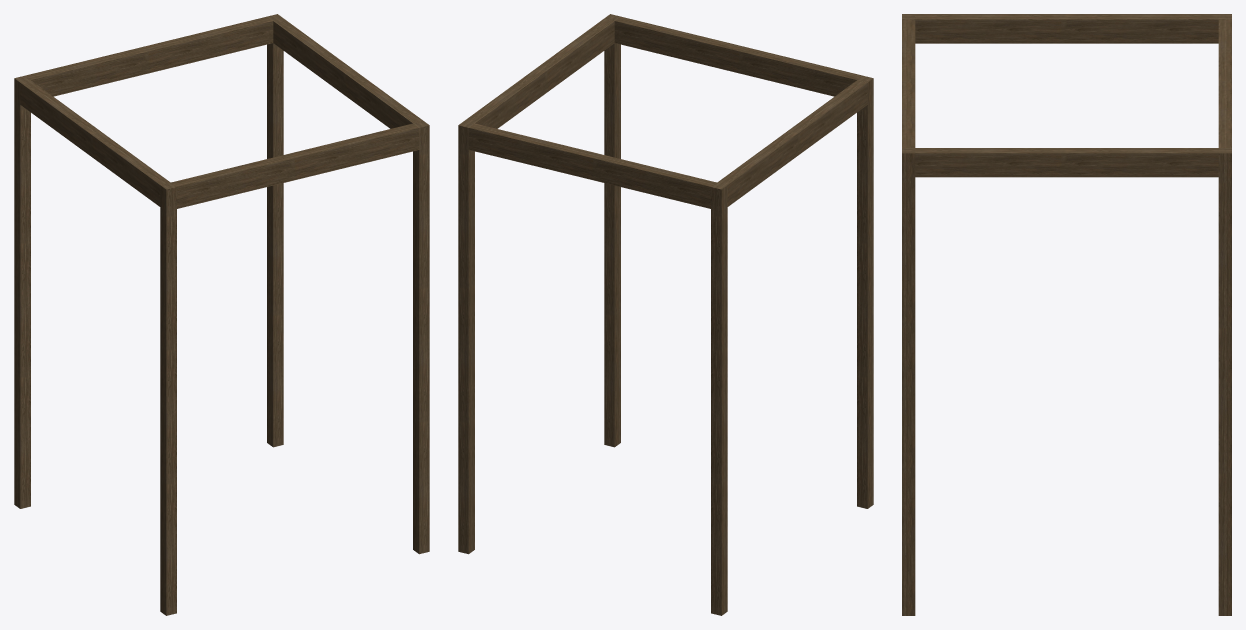
File: fp-dokurtu_1k-6s_brownebony.fbx
3 views of the same model, side by side, from view 1: azimuth 30°, elevation 25°; view 2: azimuth 150°, elevation 25°; view 3: azimuth 270°, elevation 25° (orthographic). The views are drawn at different scales.
Parts seen in each view (by area): view 1: fp-dokurtu_1k-6s_brownebony; view 2: fp-dokurtu_1k-6s_brownebony; view 3: fp-dokurtu_1k-6s_brownebony.
Part boxes in pixels (box(x1,y1,x2,y2)): fp-dokurtu_1k-6s_brownebony: box(14, 14, 429, 615); fp-dokurtu_1k-6s_brownebony: box(458, 14, 873, 615); fp-dokurtu_1k-6s_brownebony: box(902, 14, 1231, 615).
Bounding box in the file's own units: 187 × 290 × 187.
1 material, 1 textured.
